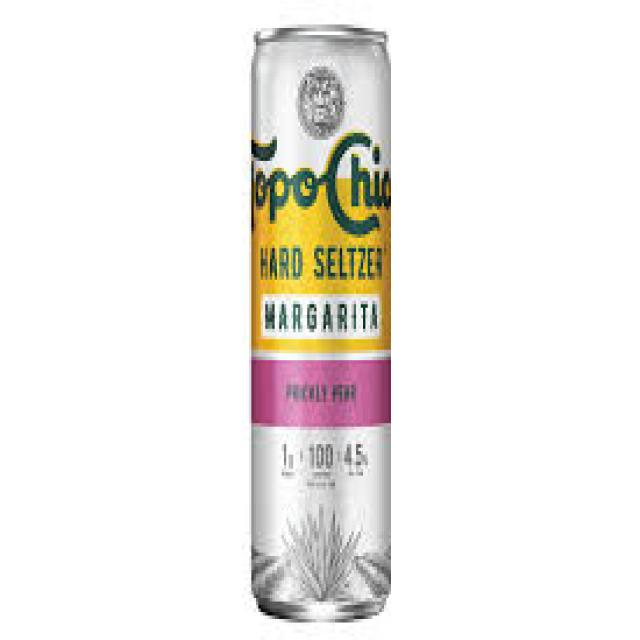Cans: (242, 14, 405, 629)
